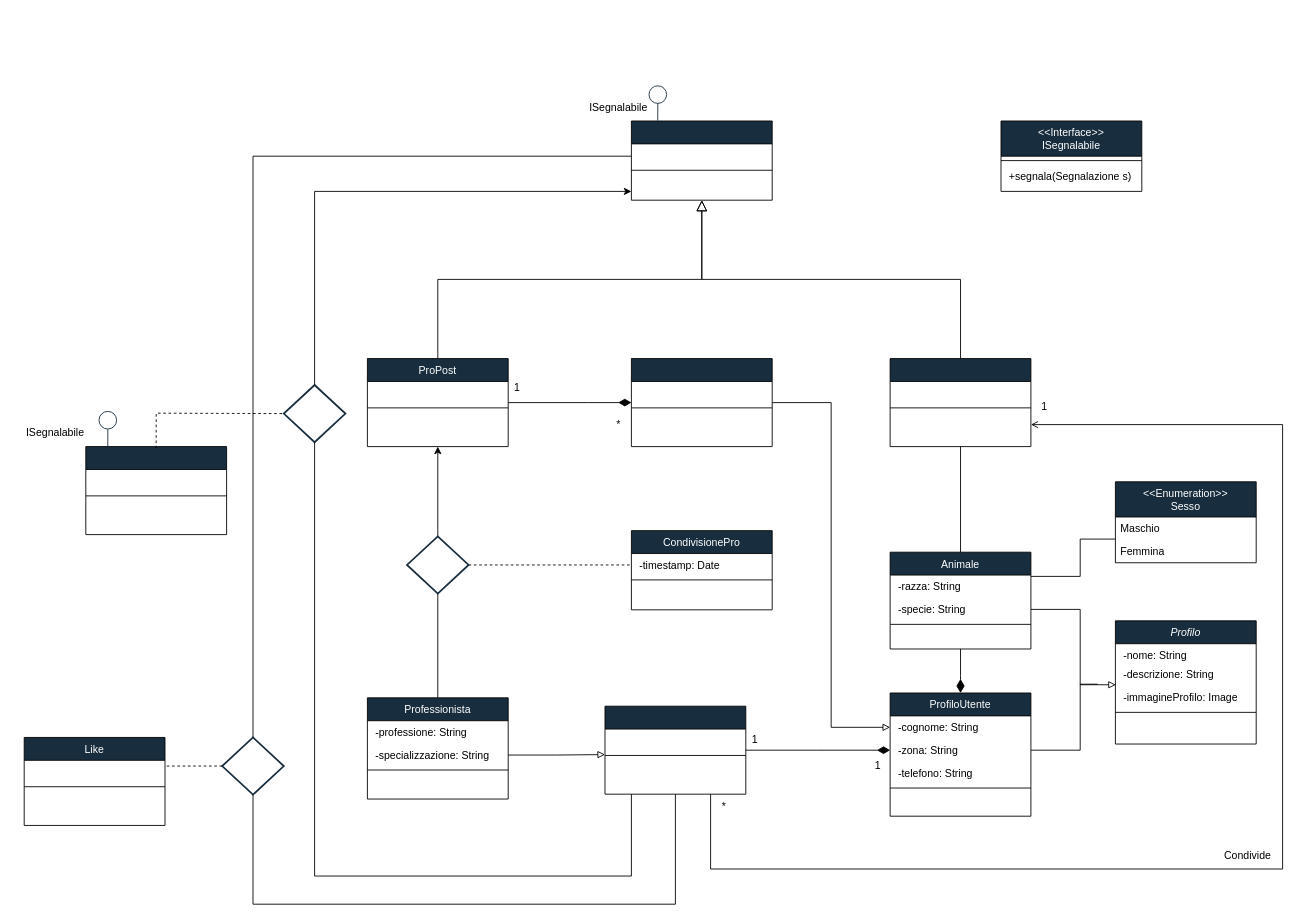
Some shapes in this 1305 by 920 pixel diagram are drawn without their labels. Here are the shapes that lost their labels. From the top down, the centre of each, then its label:
pixel 701 160: Post
pixel 701 402: ProfiloProfessionista
pixel 960 402: PostAnimale
pixel 156 490: Commento
pixel 675 749: UtenteStandard
